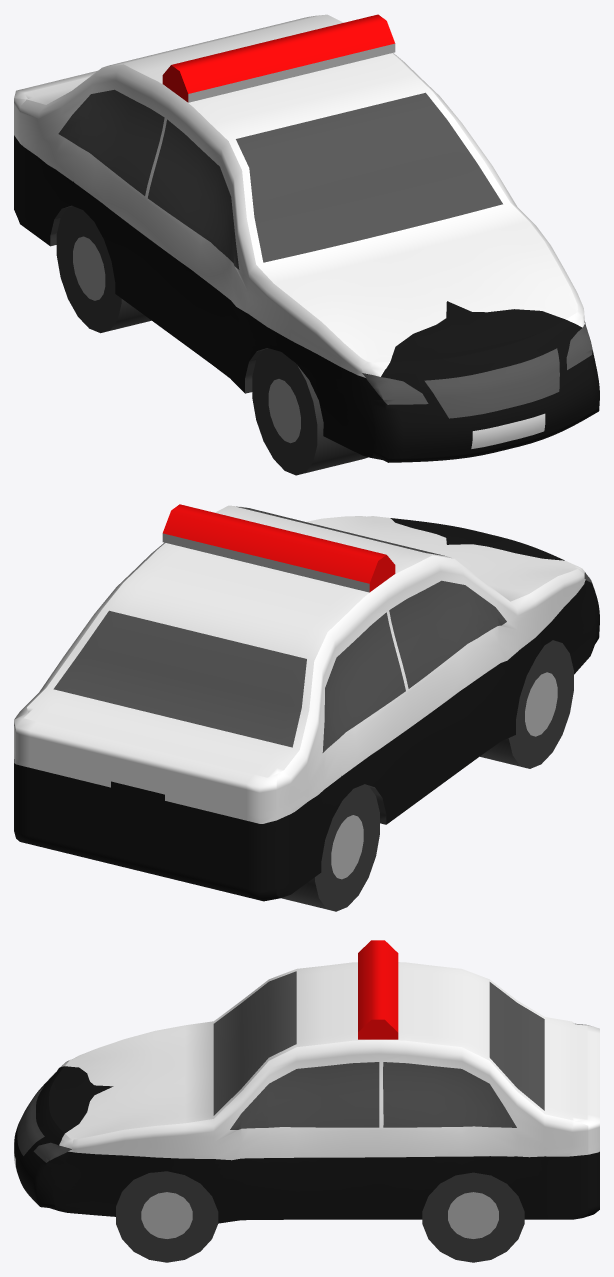
File: patoka-.obj
3 views of the same model, one above another, from view 1: azimuth 30°, elevation 25°; view 2: azimuth 150°, elevation 25°; view 3: azimuth 270°, elevation 25° (orthographic). The views are drawn at different scales.
Parts seen in each view (by area): view 1: pCube7, group5 pCube4, group5 pasted__pCylinder3, group5 pasted__pasted__pCylinder2; view 2: pCube7, group5 pCube4, group5 pasted__pasted__pCylinder2, group5 pasted__pCylinder3; view 3: pCube7, group5 pCylinder2, pasted__pCylinder2 group5, group5 pCube4.
Boxes of the visible parts, x1,y1,x2,y2 form: pCube7: [14, 14, 599, 462]; group5 pCube4: [162, 14, 395, 102]; group5 pasted__pCylinder3: [252, 348, 367, 475]; group5 pasted__pasted__pCylinder2: [56, 206, 151, 333]; pCube7: [14, 505, 599, 901]; group5 pCube4: [162, 504, 395, 592]; group5 pasted__pasted__pCylinder2: [281, 784, 379, 911]; group5 pasted__pCylinder3: [480, 640, 573, 768]; pCube7: [14, 962, 599, 1223]; group5 pCylinder2: [116, 1171, 218, 1262]; pasted__pCylinder2 group5: [422, 1172, 524, 1262]; group5 pCube4: [358, 940, 398, 1039].
Size of the model in its own units: 2.48 by 2.61 by 5.89.
